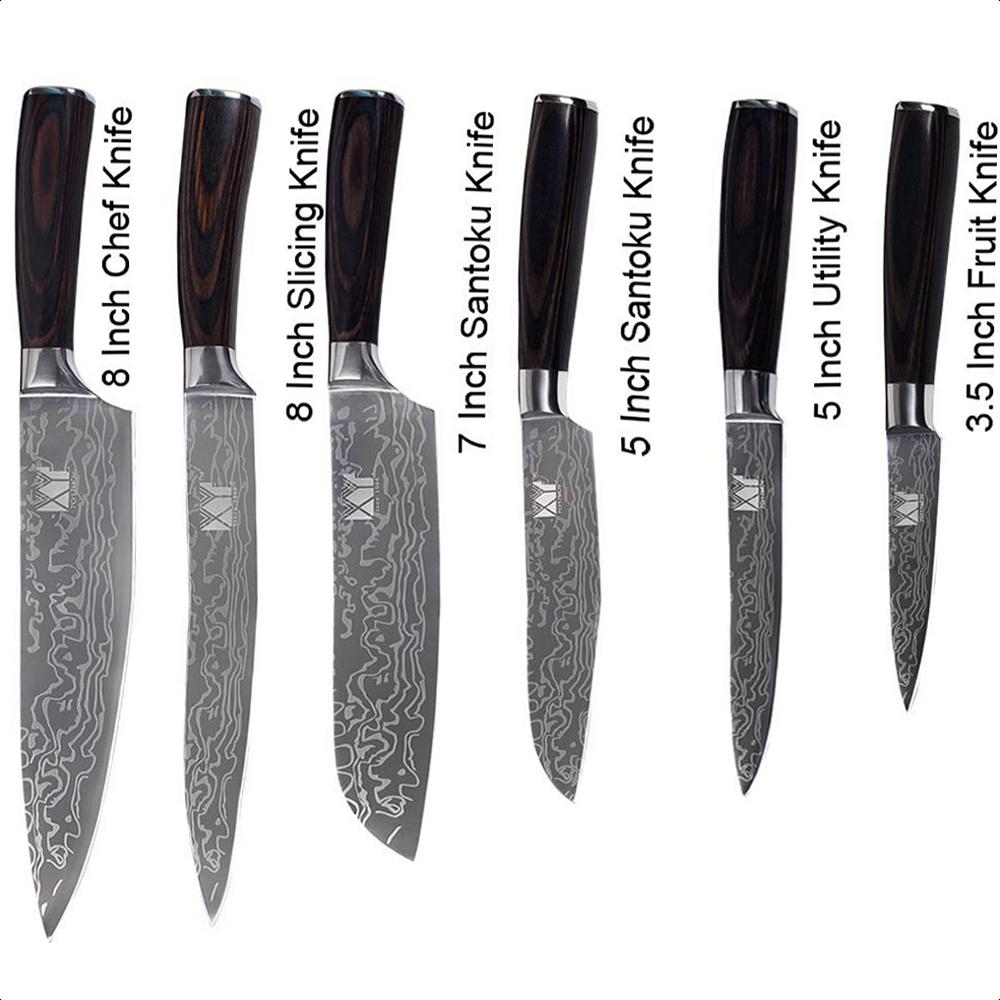knife: (12, 86, 136, 940), (518, 95, 602, 798), (721, 100, 795, 798), (879, 100, 958, 709)
